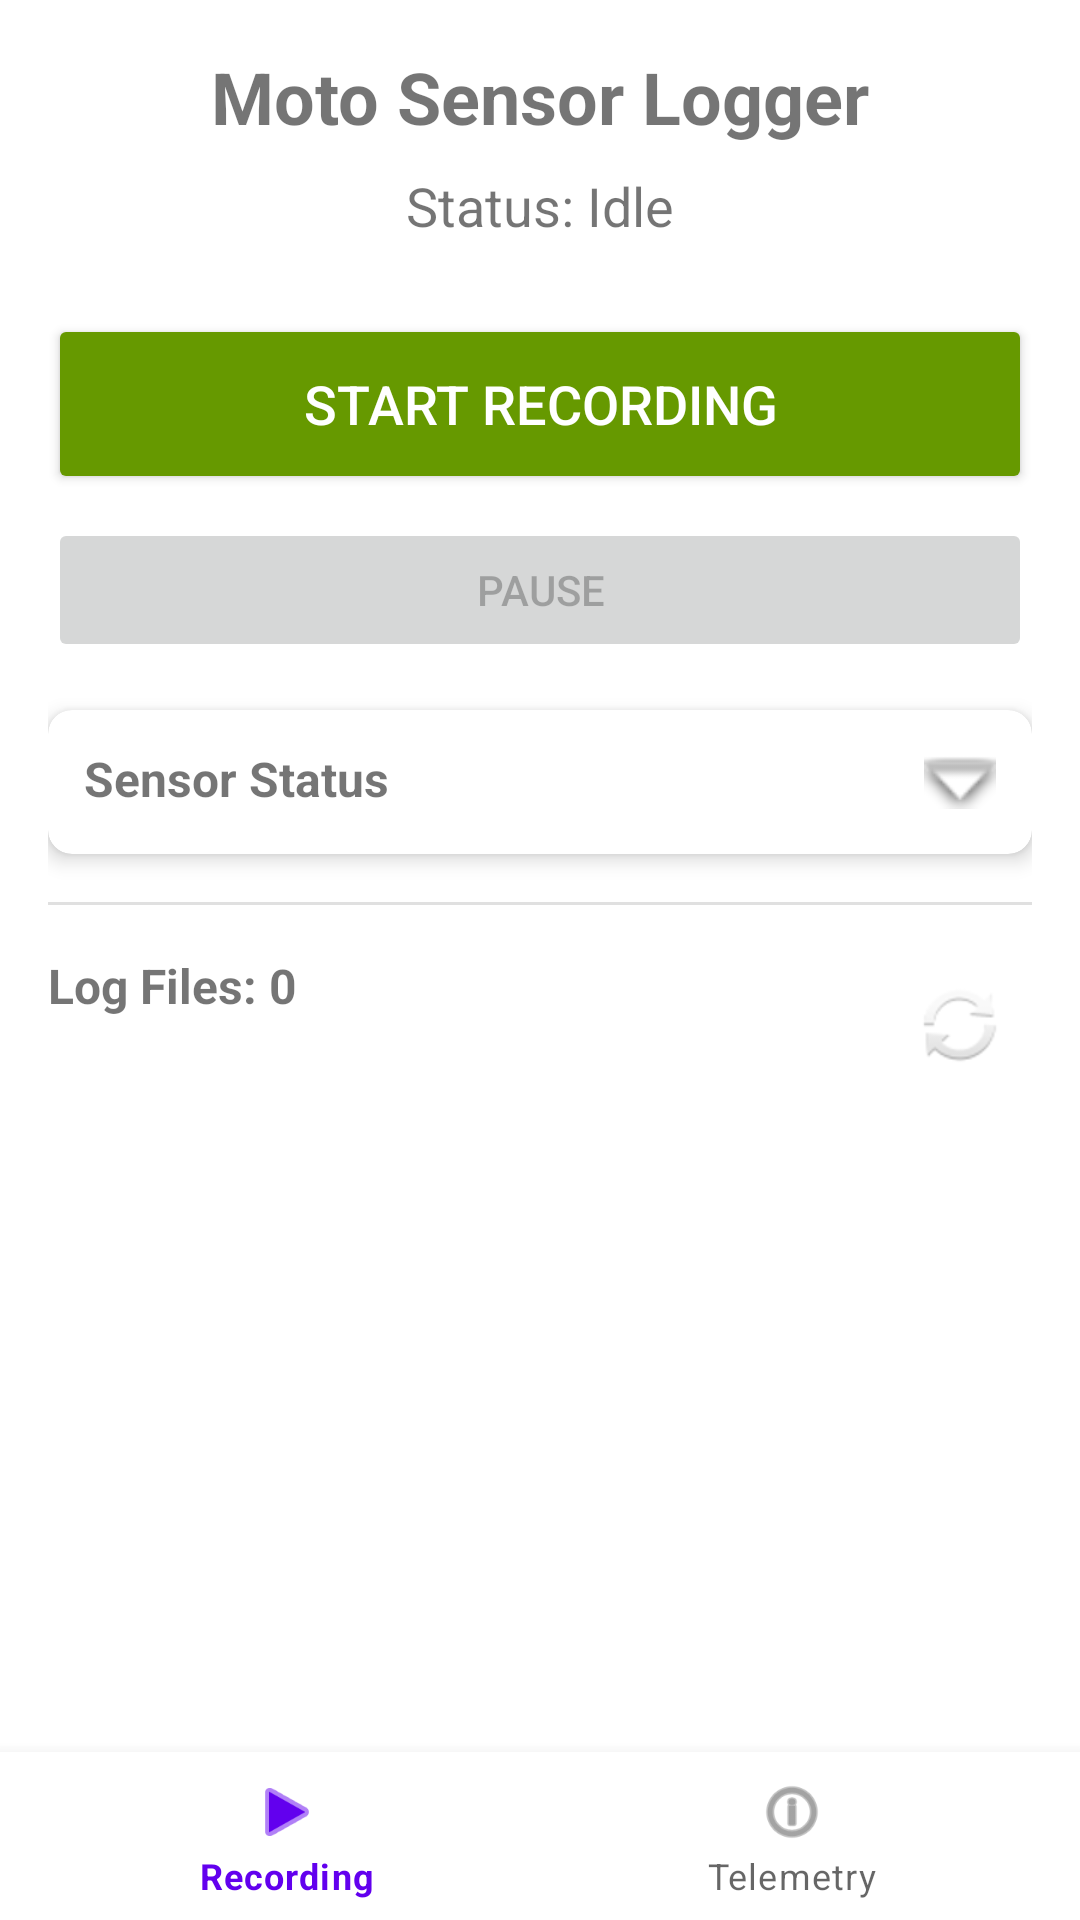

Named icons in this screenshot (1080px x 1920px) and their centers, (x,y):
arrow down float: (960,782)
Refresh logs: (959,1029)
